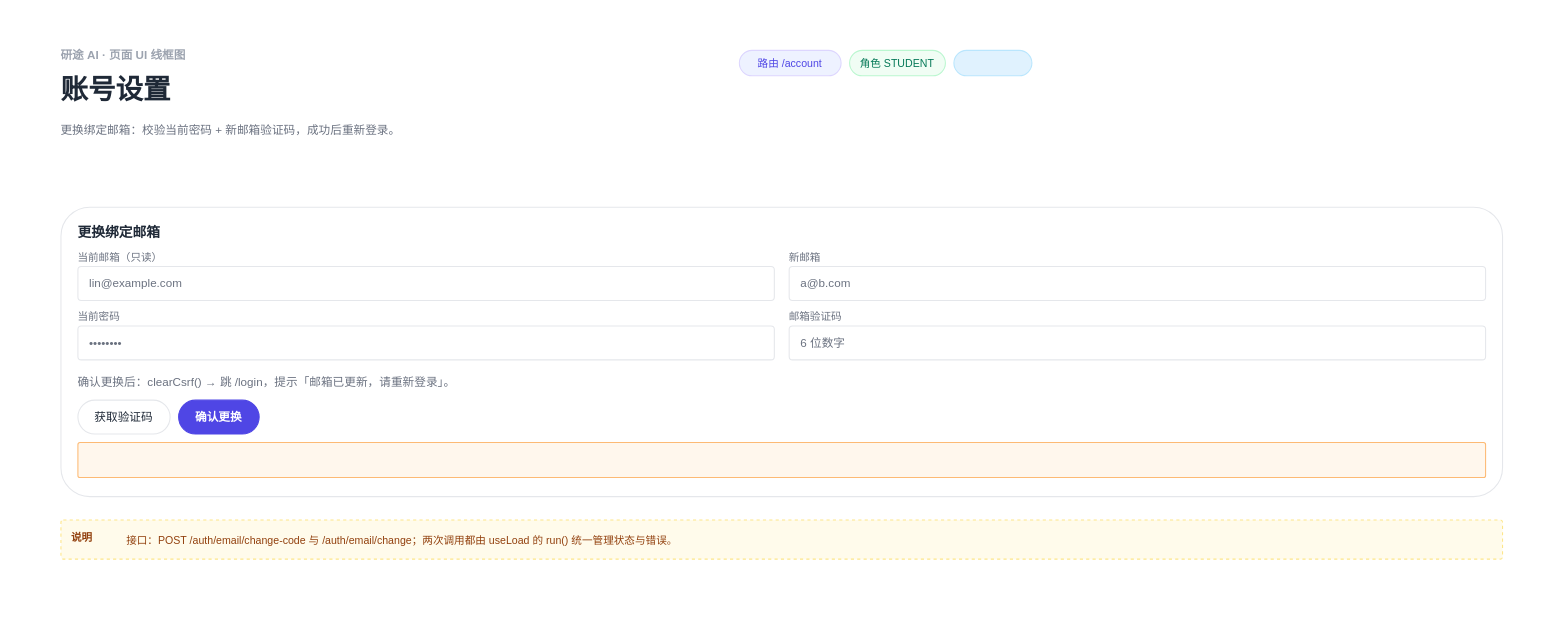
Image size: 1565x632. Some labels were removed from this diagram. Here are the shapes that lost their labels. From the top down, the box of each, then its label:
(953, 49, 1032, 76): 模式 live
(77, 441, 1486, 478): 获取验证码前需先填新邮箱与当前密码；未收到提示时可重试。
